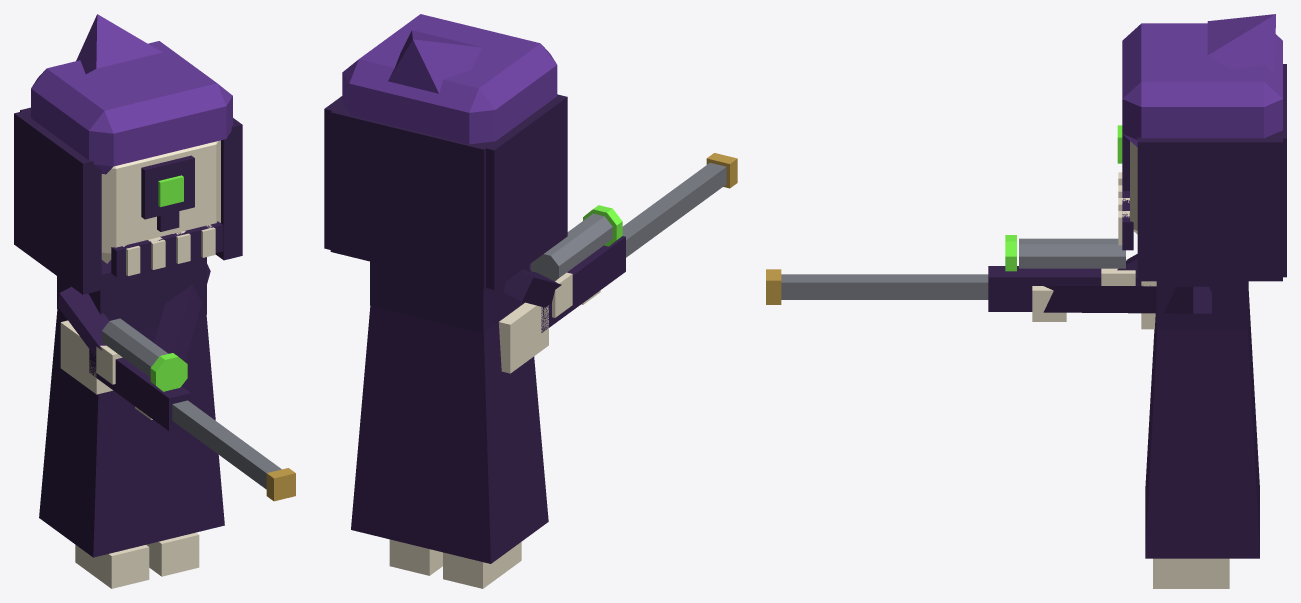
Rendered from sniper_enemy_r4.glb.
3 views of the same model, side by side, from view 1: azimuth 30°, elevation 25°; view 2: azimuth 150°, elevation 25°; view 3: azimuth 270°, elevation 25° (orthographic). The views are drawn at different scales.
Visible parts, largest first — view 1: sniper_enemy_r4_mesh; view 2: sniper_enemy_r4_mesh; view 3: sniper_enemy_r4_mesh.
Boxes of the visible parts, x1=… form: sniper_enemy_r4_mesh: x1=14, y1=14, x2=295, y2=588; sniper_enemy_r4_mesh: x1=324, y1=14, x2=737, y2=588; sniper_enemy_r4_mesh: x1=766, y1=14, x2=1286, y2=588.
Size of the model in its own units: 0.5449 by 1.7 by 1.45.
1 material, 1 textured.
